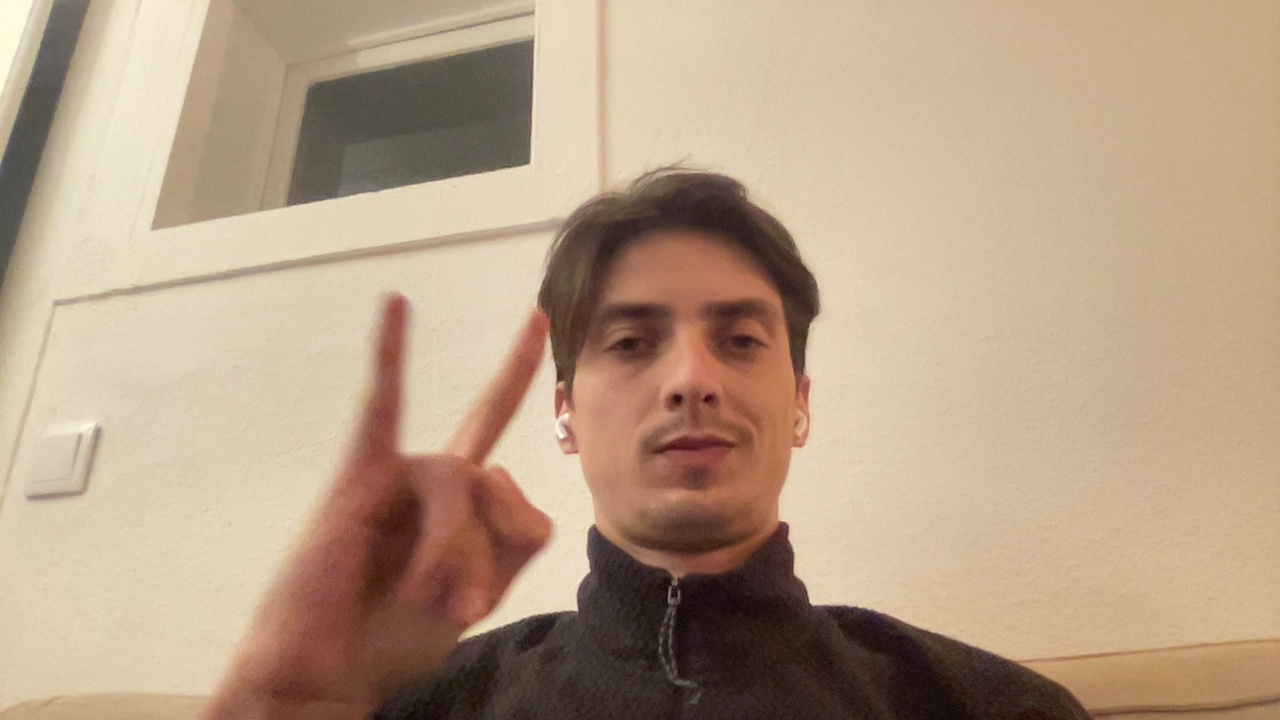I Love You: (205, 275, 578, 690)
